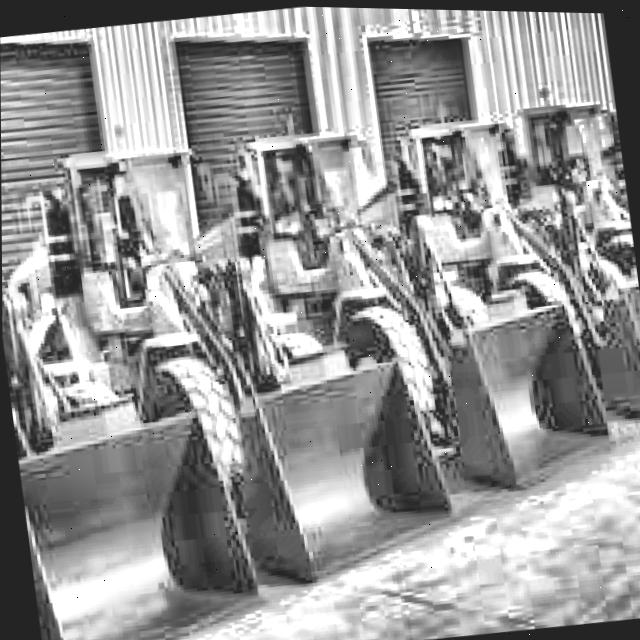buldozerpayloadergrader: (0, 85, 283, 640)
